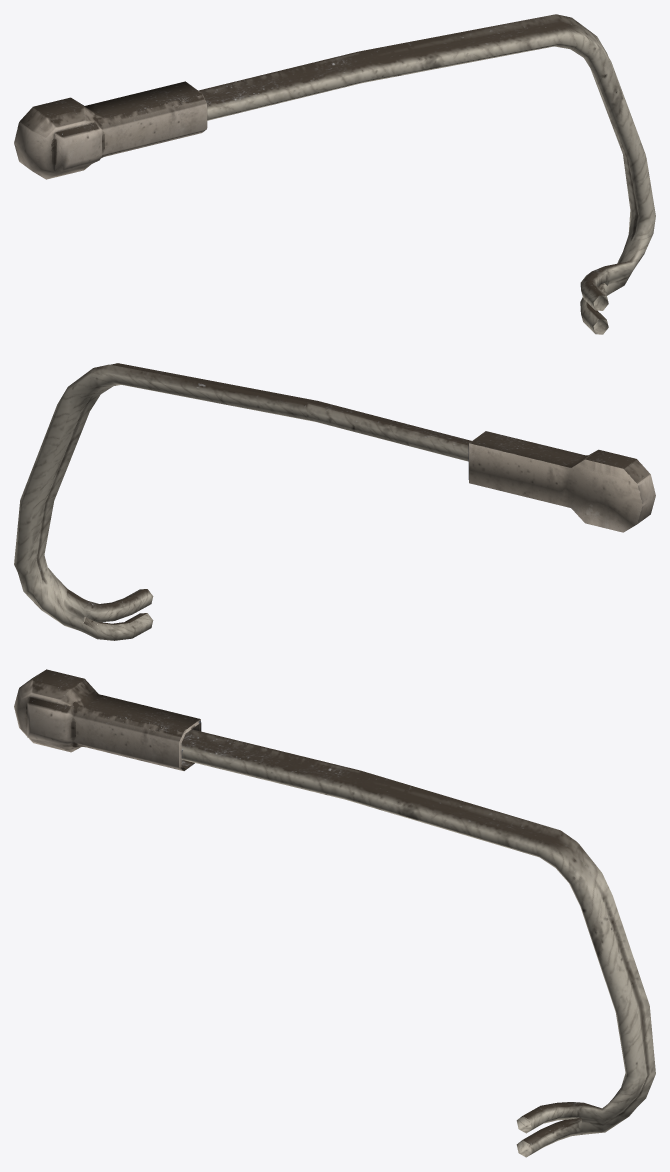
File: WallDuct_C.fbx
3 views of the same model, one above another, from view 1: azimuth 30°, elevation 25°; view 2: azimuth 150°, elevation 25°; view 3: azimuth 330°, elevation 25° (orthographic).
Parts seen in each view (by area): view 1: WallDuct_C; view 2: WallDuct_C; view 3: WallDuct_C.
Part boxes in pixels (bbox=[...]): WallDuct_C: bbox=[14, 14, 655, 334]; WallDuct_C: bbox=[14, 363, 655, 640]; WallDuct_C: bbox=[14, 669, 655, 1157].
Size of the model in its own units: 104 by 50.87 by 13.76.
1 material, 1 textured.
